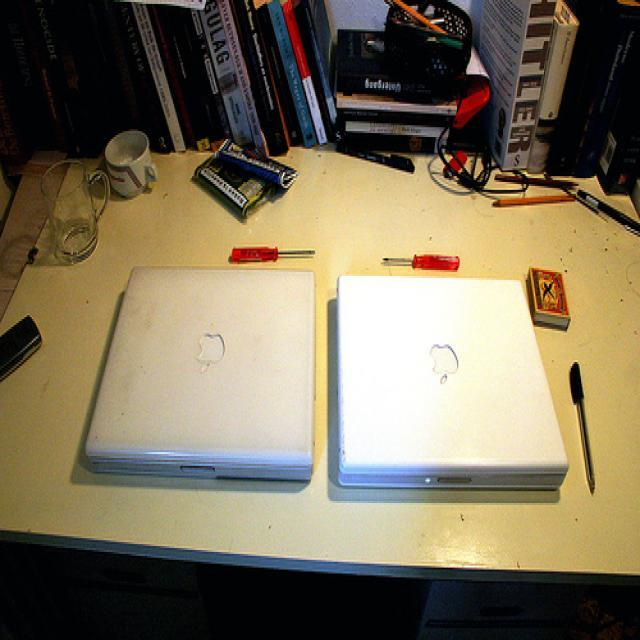screwdriver: (368, 240, 471, 278), (224, 235, 324, 270)
